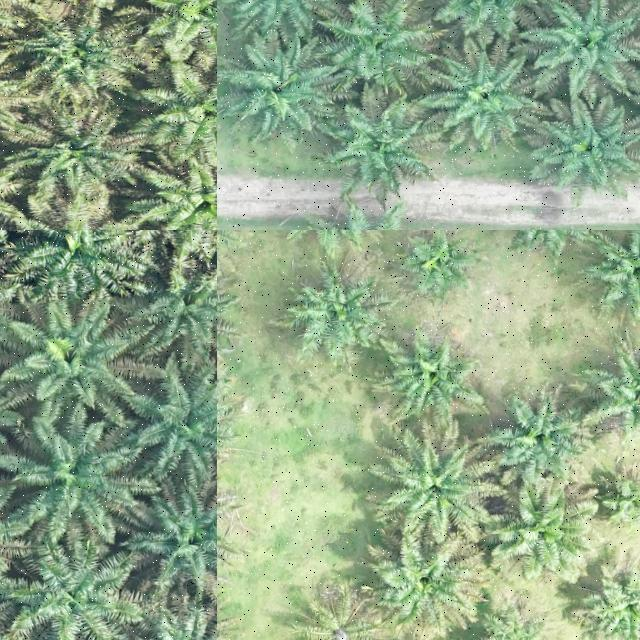Ganoderma: (310, 606, 373, 640)
